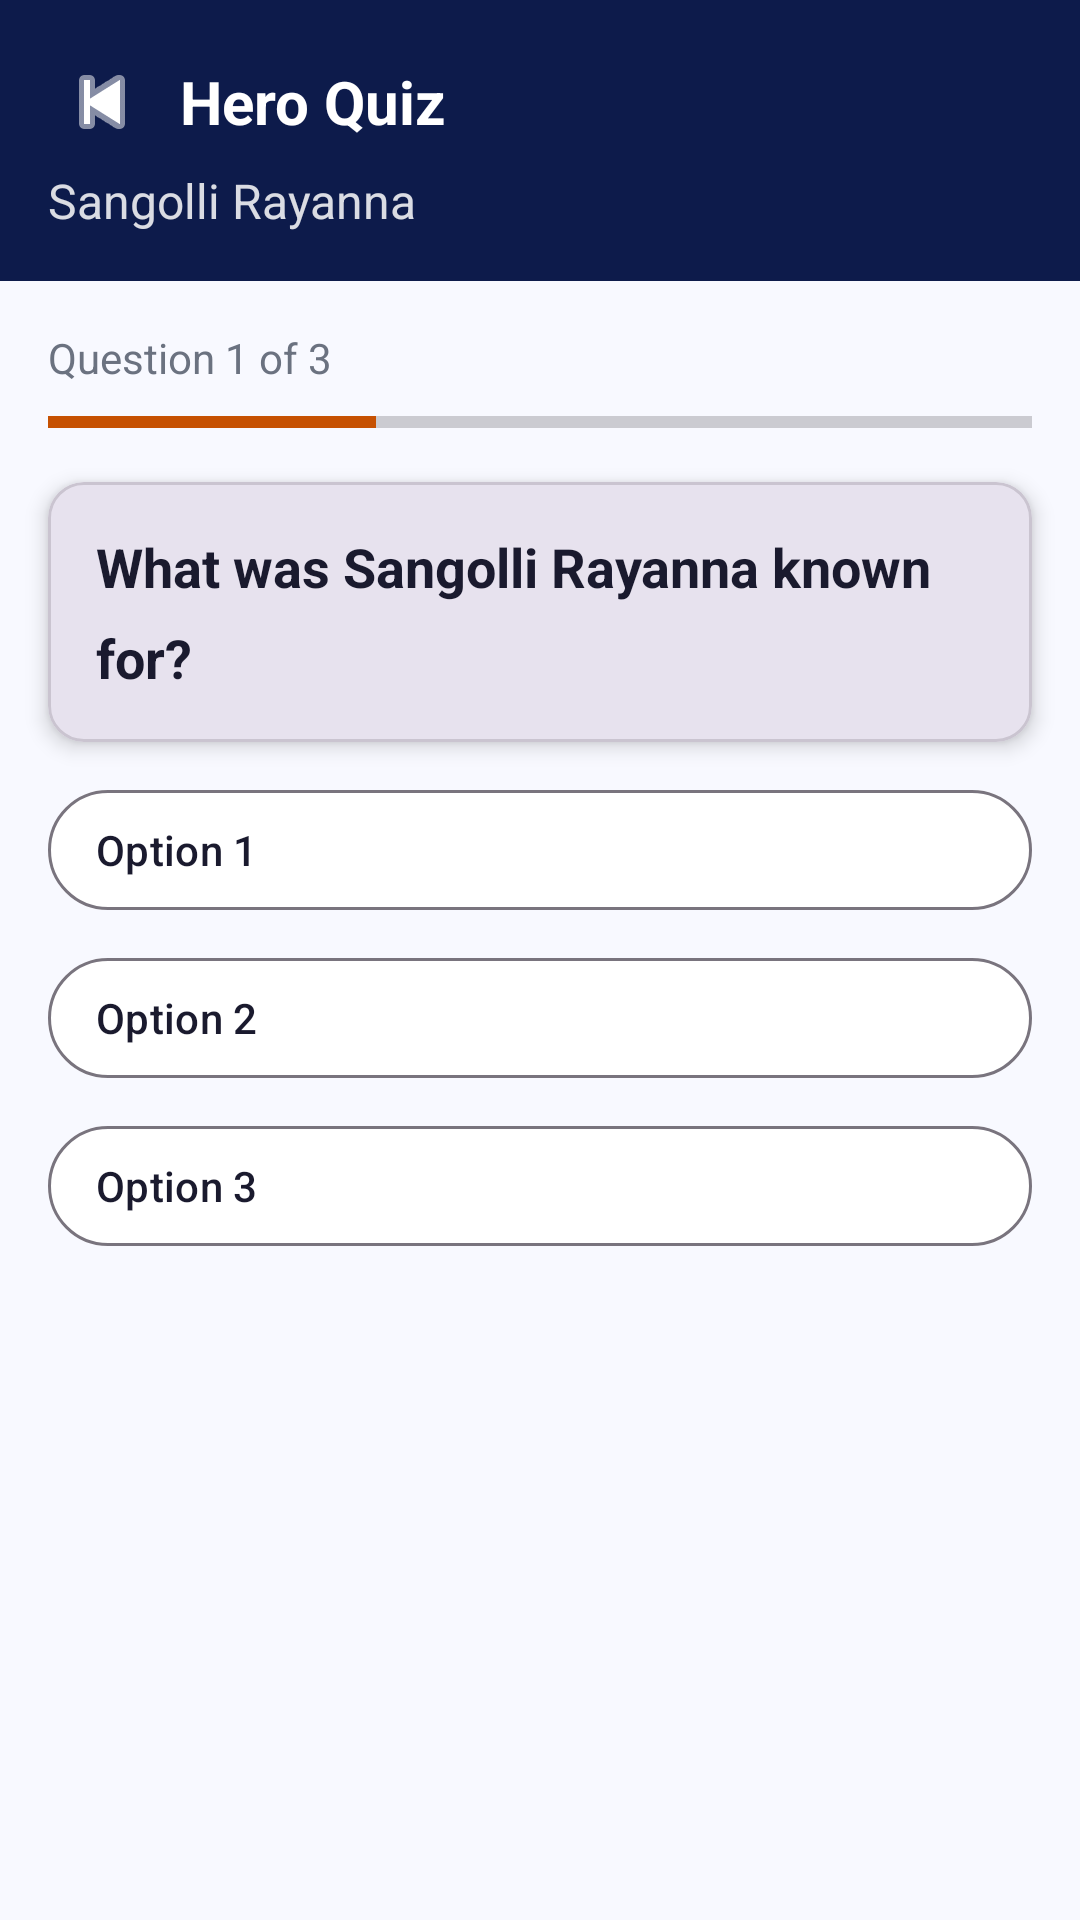

Screen size 1080*1920. Icon name, then its center in pixels as [x,y]:
Back: [102,102]
